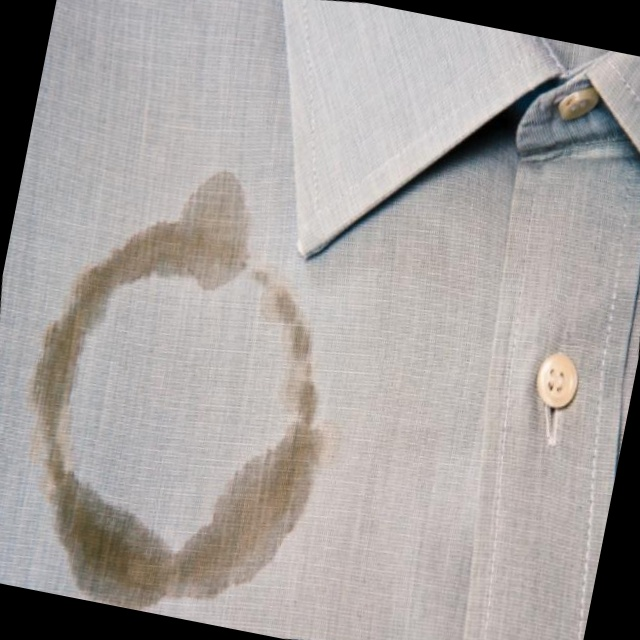coffee: (166, 412, 339, 629), (119, 170, 265, 304), (23, 250, 119, 430), (52, 491, 177, 613)
